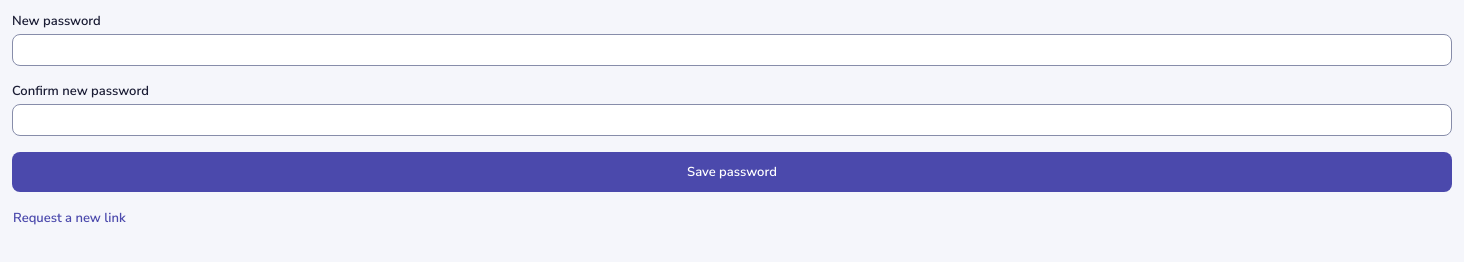
Test: ResetPasswordForm › requires matching passwords before sending
This screenshot has width=1464, height=262.
In the password field labelled "New password": {"x": 732, "y": 50} x1=12 y1=34 x2=1452 y2=66, type "Fleet-Ops-2026!"
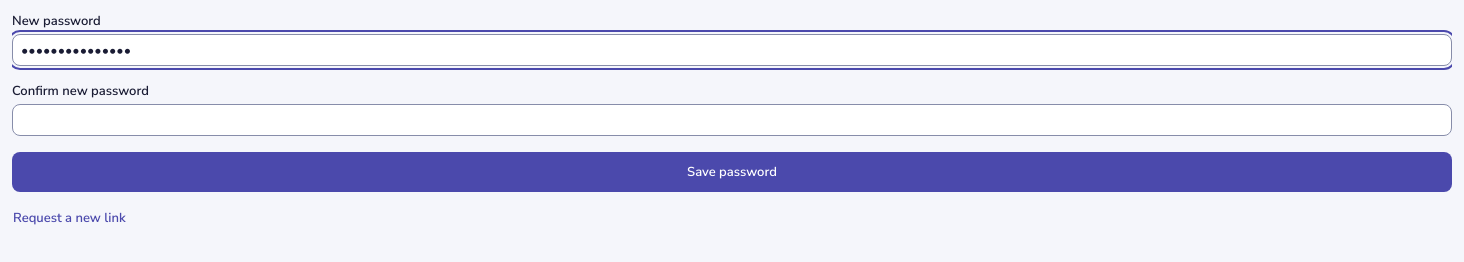
In the password field labelled "Confirm new password": {"x": 732, "y": 120} x1=12 y1=104 x2=1452 y2=136, type "Fleet-Ops-2027!"
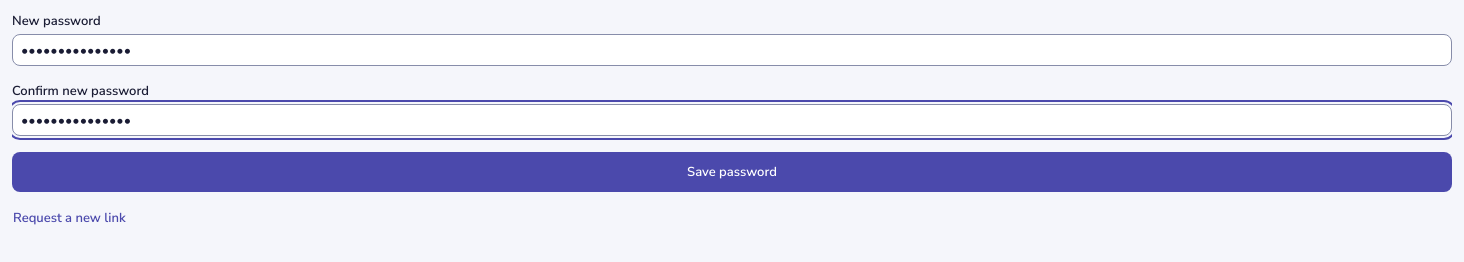
Click the button "Save password": {"x": 732, "y": 172} x1=12 y1=152 x2=1452 y2=192
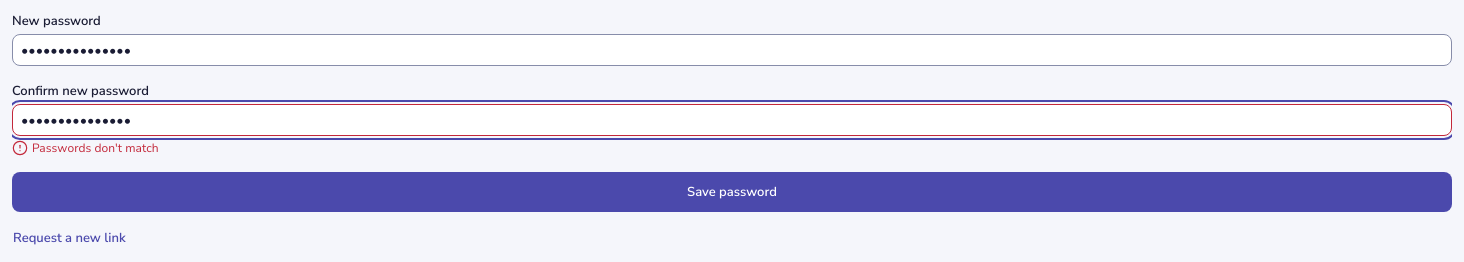
Now the text "Passwords don't match" is shown, box x1=12 y1=140 x2=159 y2=156
